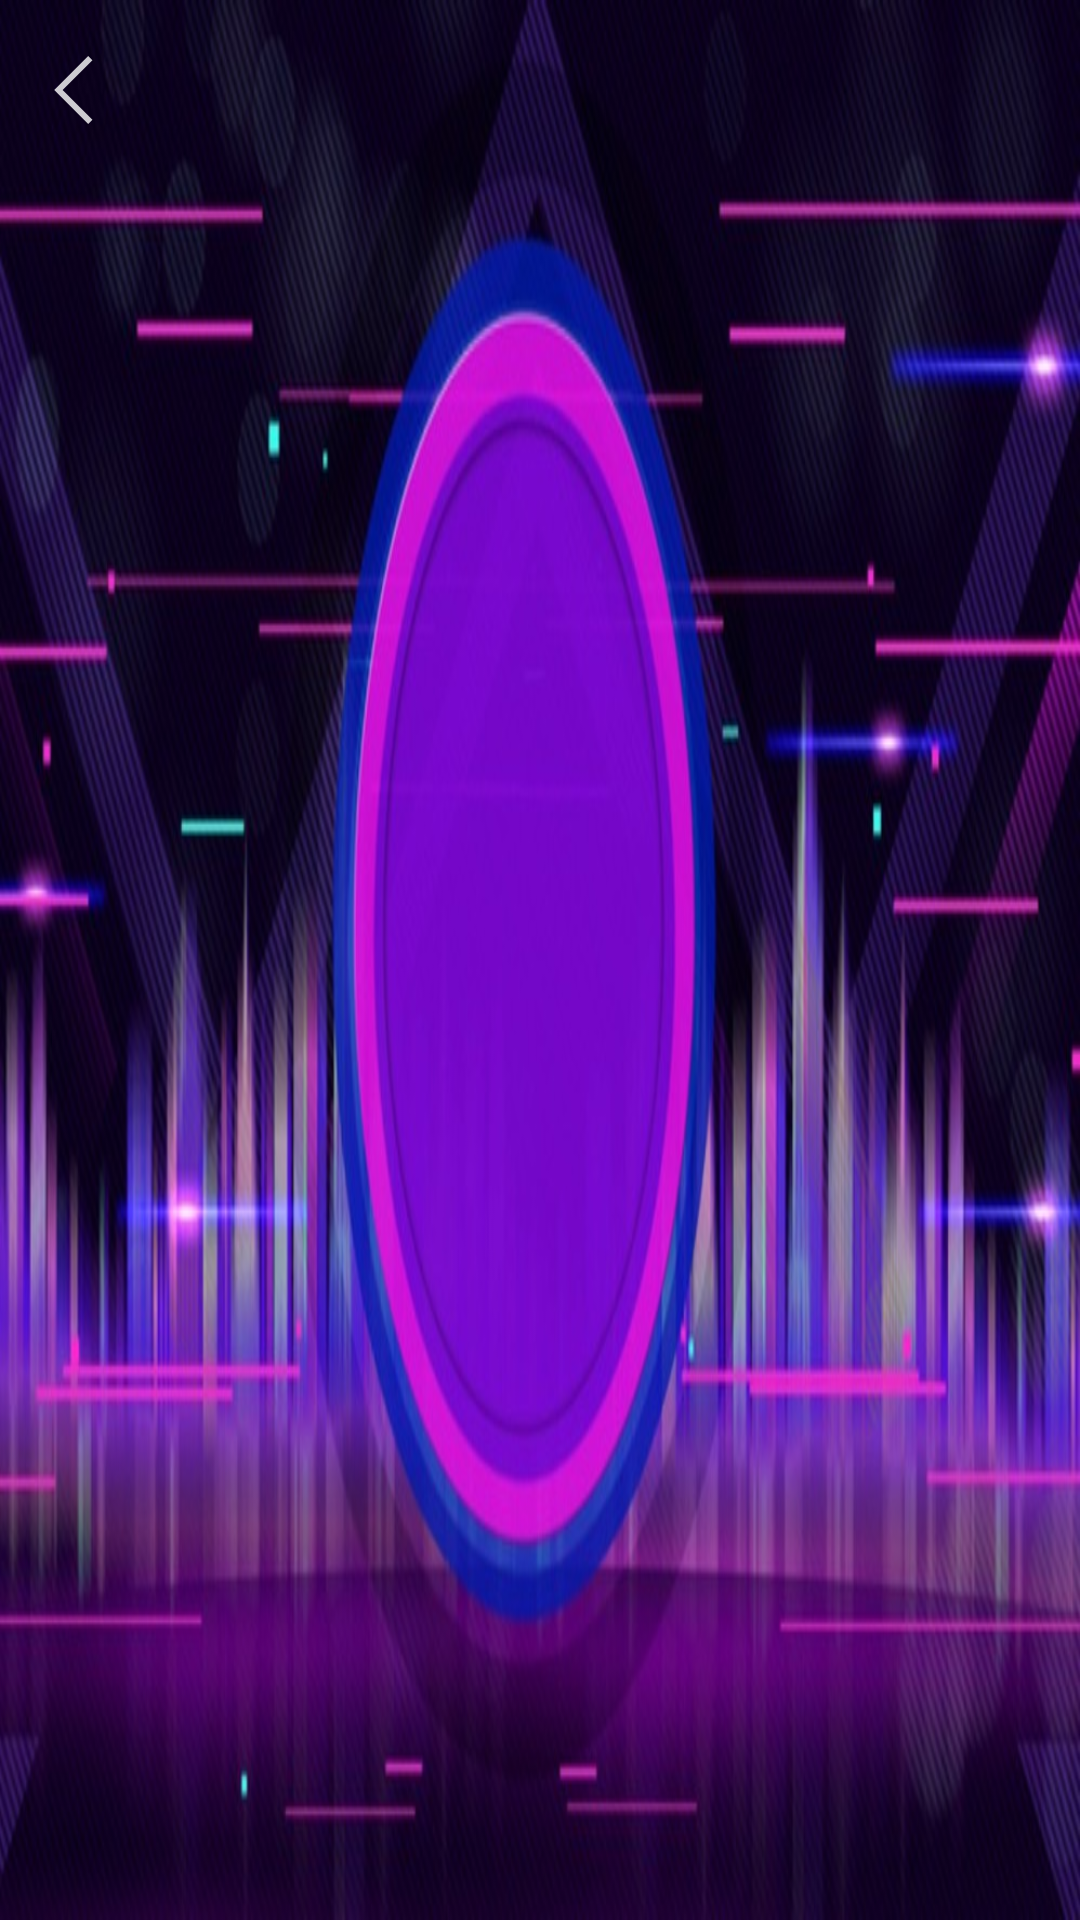

Where icons sit on this 1080px×1920px app screen, as [x1,y1,x2,y2]:
back: [54,56,93,124]
